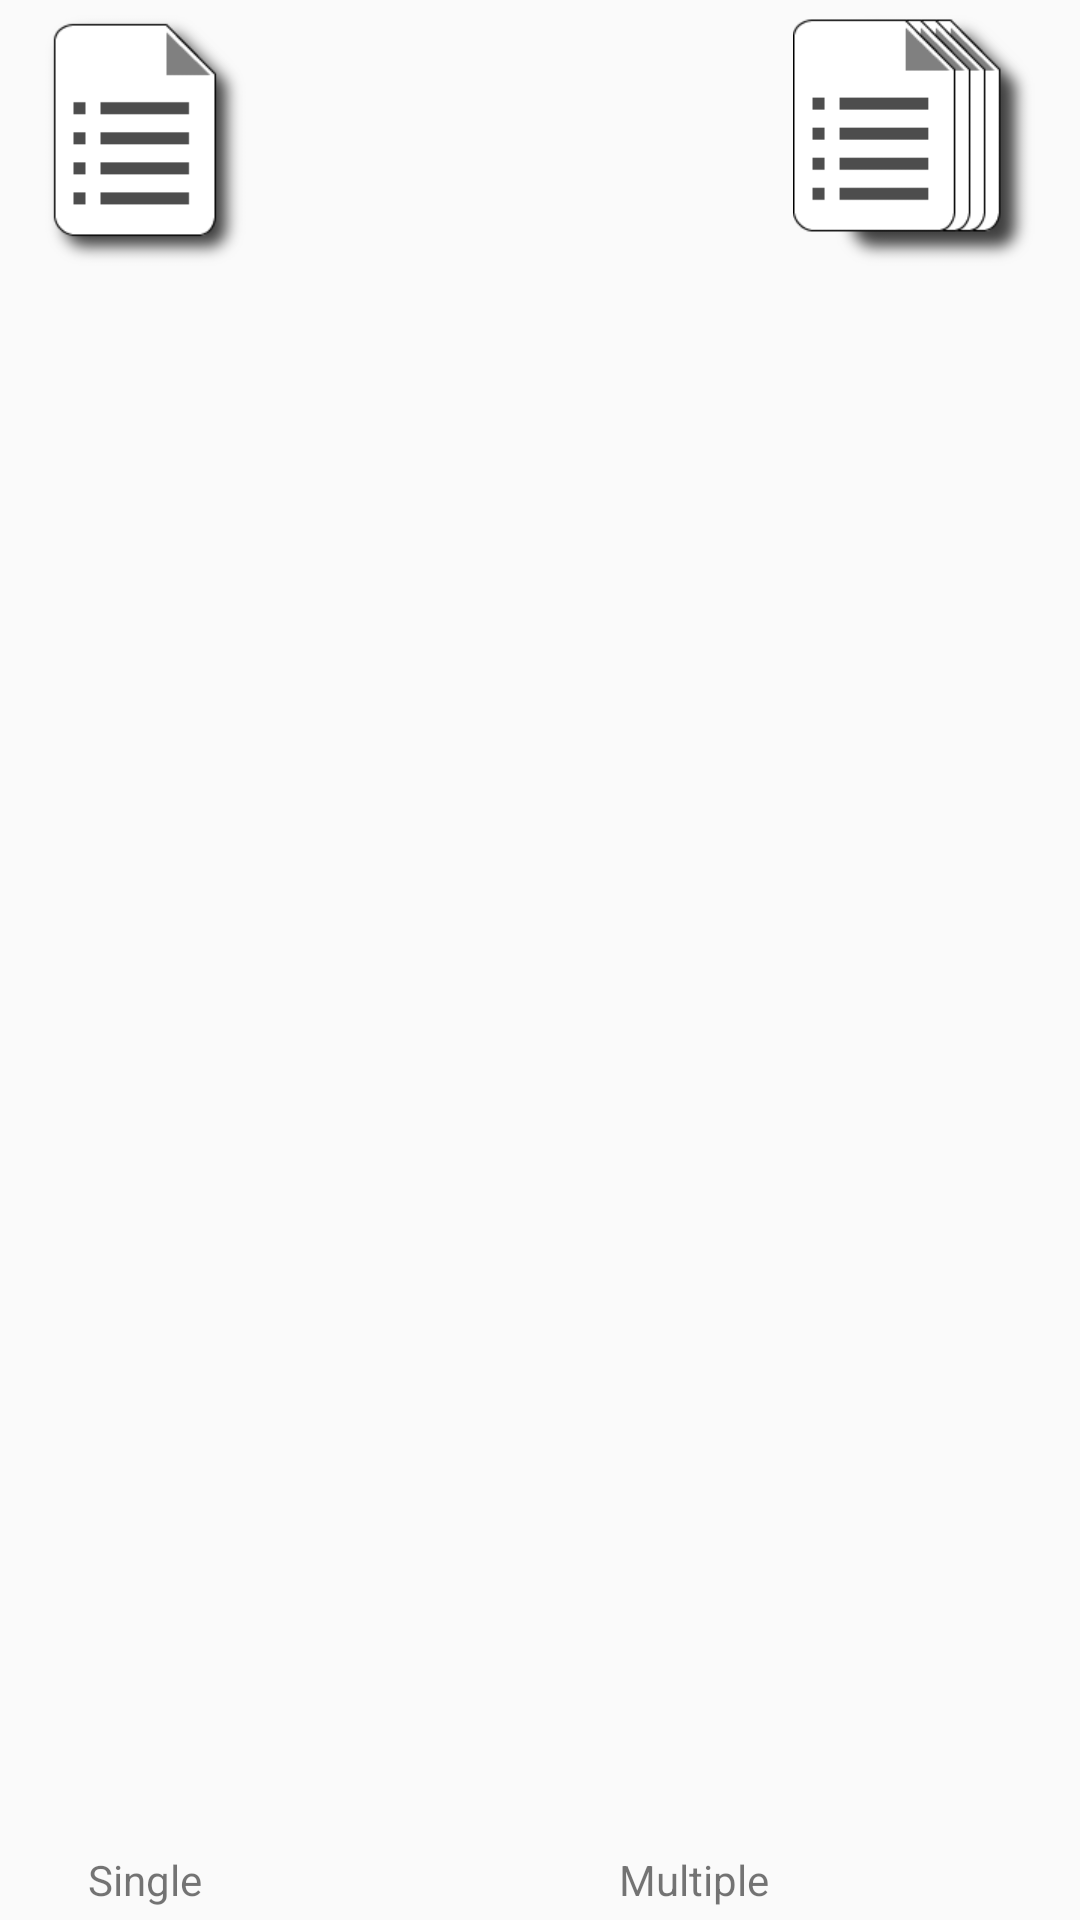

Named icons in this screenshot (1080px x 1920px) and their bounding boxes, (x1, y1, x2, y2):
file multi: (793, 19, 1024, 255)
file single: (53, 23, 235, 255)
